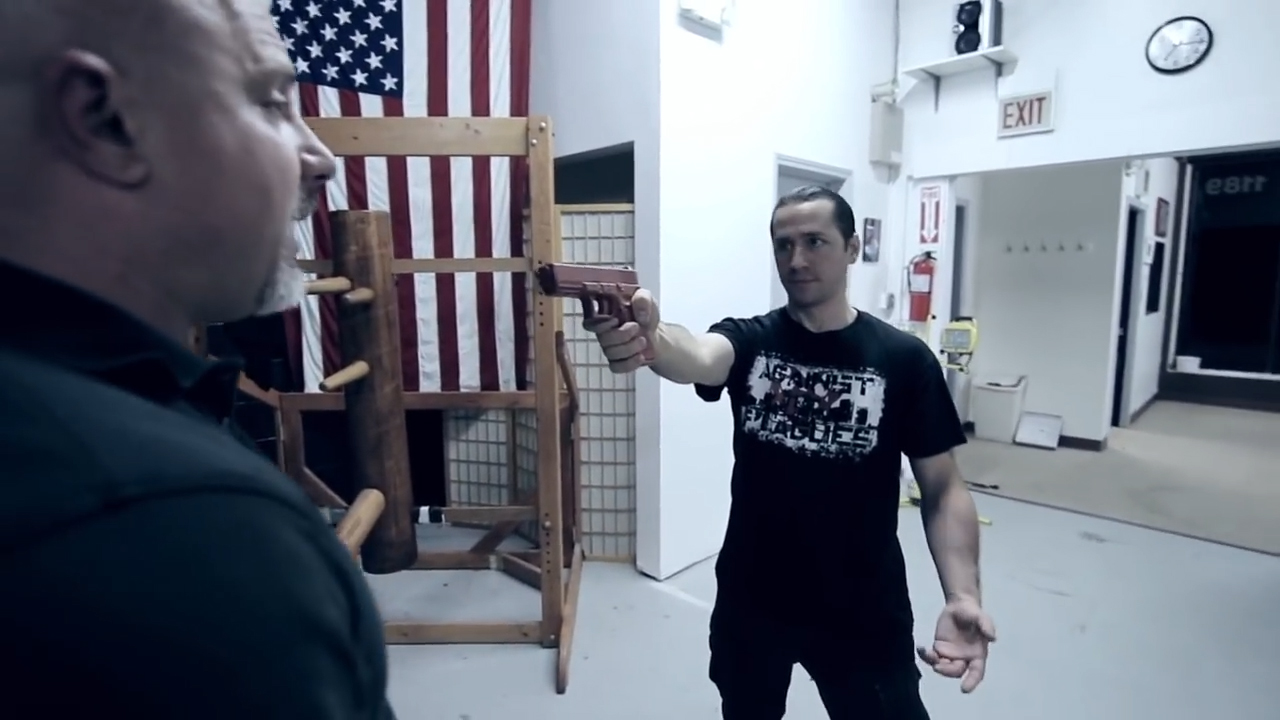pistol: (534, 261, 658, 370)
